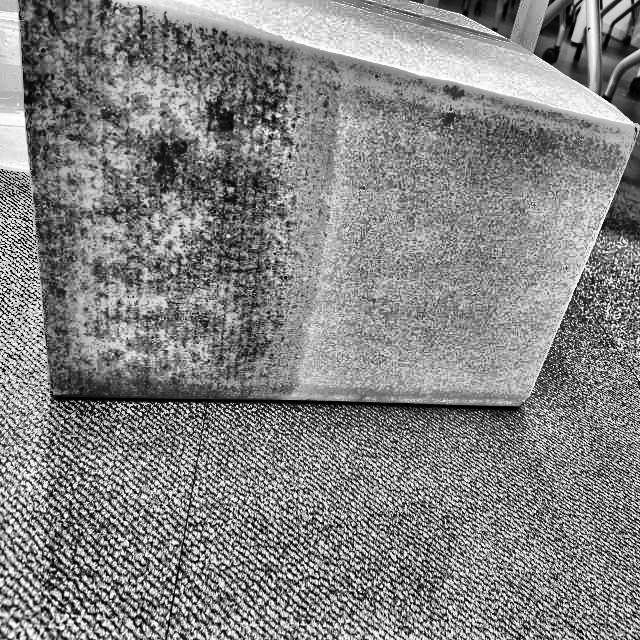box: (12, 0, 639, 421)
wet: (23, 1, 341, 453)
